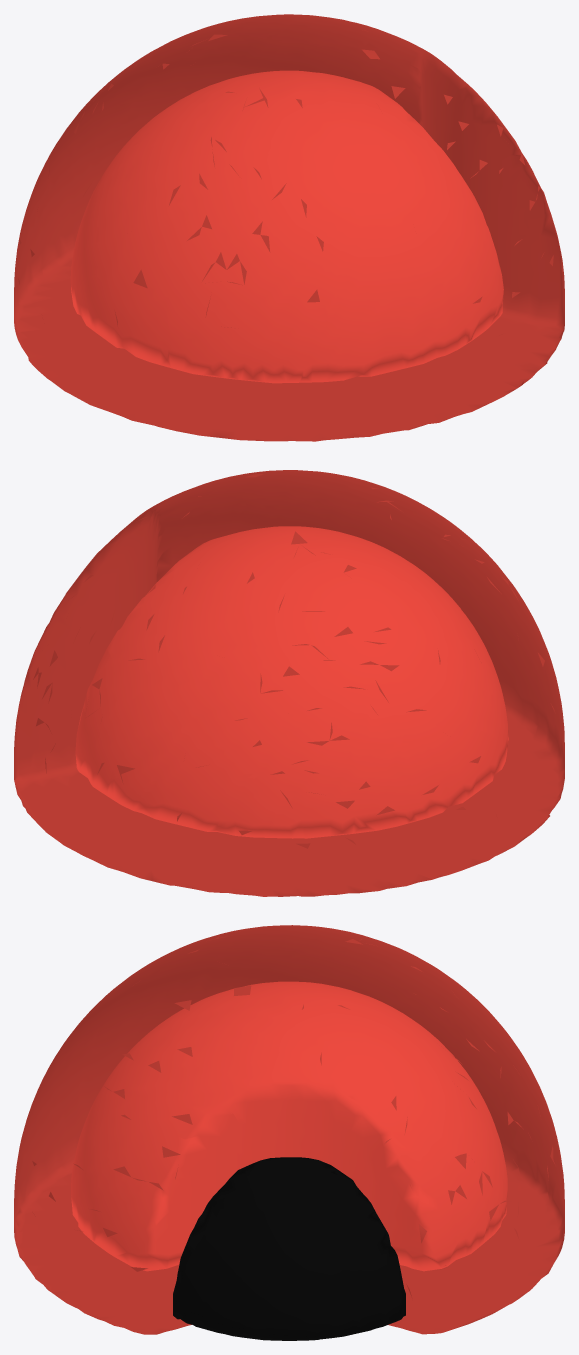
The model's file is ladybug.glb.
3 renders of one model, top to bottom at view 1: azimuth 30°, elevation 25°; view 2: azimuth 150°, elevation 25°; view 3: azimuth 270°, elevation 25°, orthographic.
Parts seen in each view (by area): view 1: Sphere.002; view 2: Sphere.002; view 3: Sphere.002.
Part boxes in pixels (x1,y1,x2,y2): Sphere.002: (14, 14, 564, 441); Sphere.002: (14, 470, 564, 896); Sphere.002: (14, 925, 564, 1340).
Bounding box in the file's own units: 4.6 × 2.65 × 4.57.
Materials: 1 (1 with a texture image).
